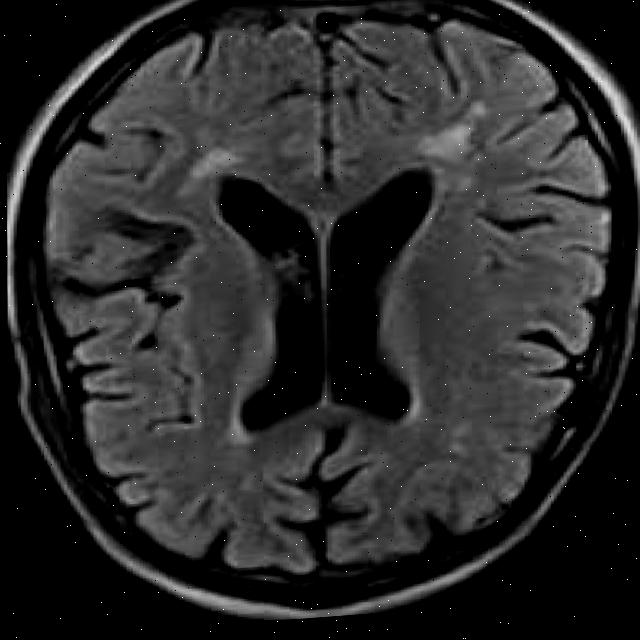NoTumor: (22, 0, 636, 607)
